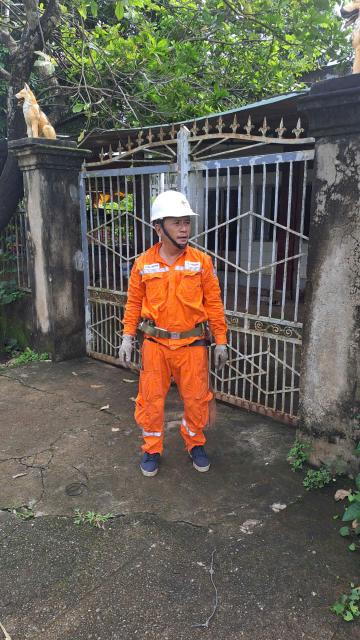gloves: (204, 337, 243, 378), (113, 330, 147, 369)
harness: (117, 303, 242, 345)
helmet: (148, 187, 205, 228)
shoes: (127, 439, 163, 483), (184, 437, 216, 479)
